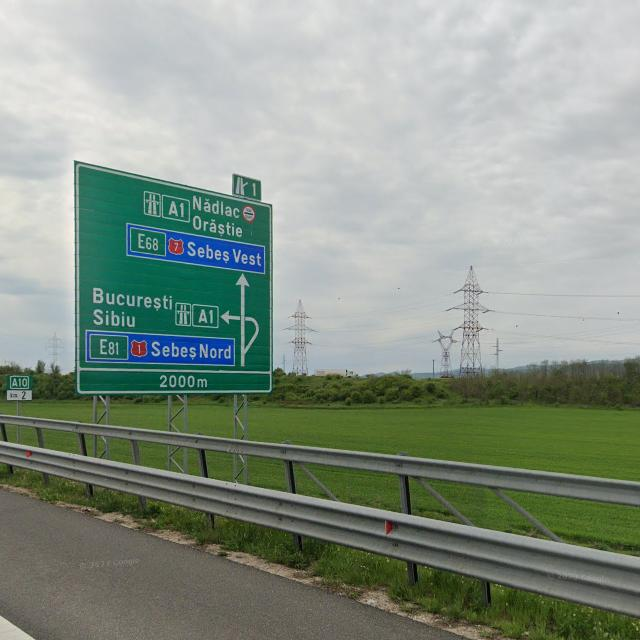info_highway: (144, 190, 162, 218), (174, 302, 192, 327)
